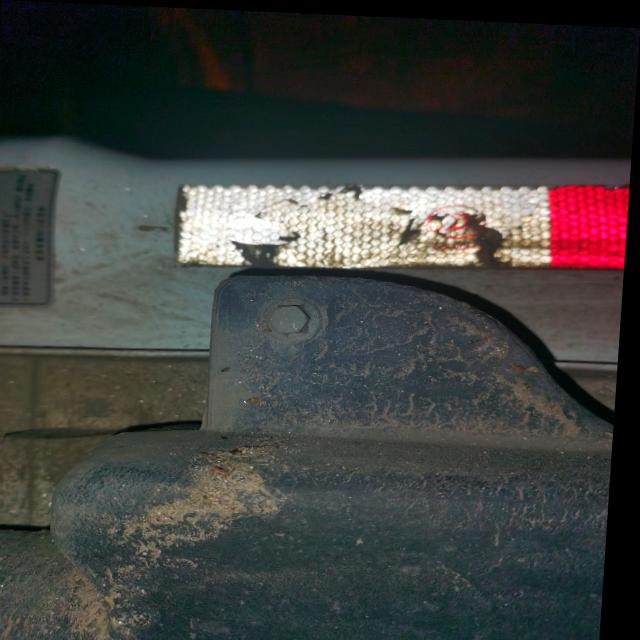Regular bolt: (273, 302, 314, 332)
